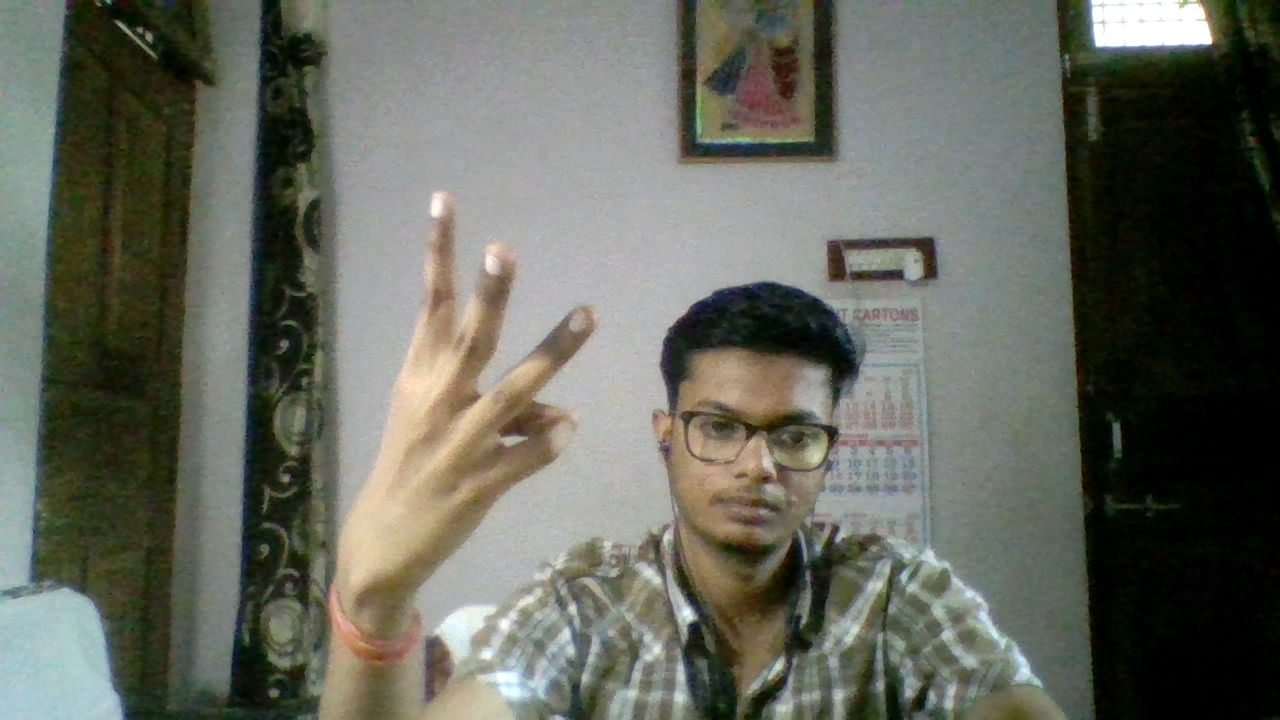three: (284, 179, 604, 686)
